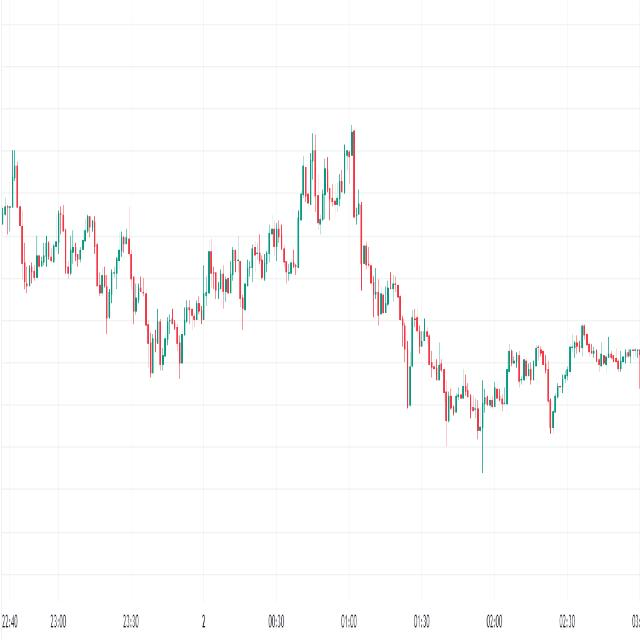Rounding-Bottom: (126, 231, 212, 387)
